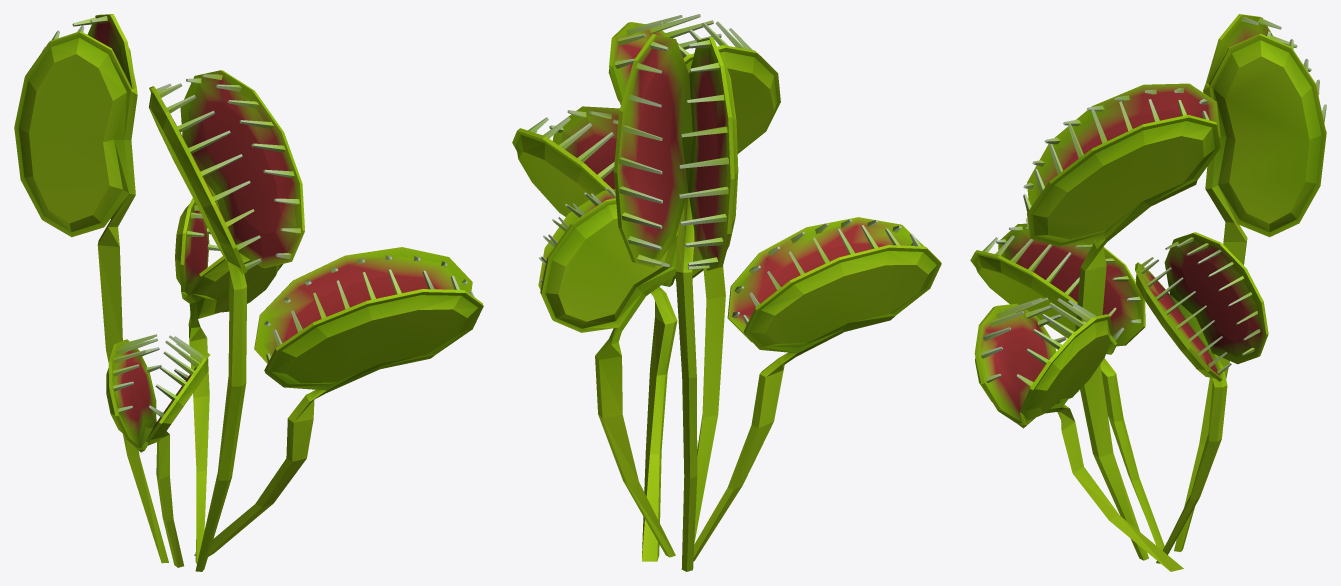
The model's file is trap-flytrap.glb.
3 views of the same model, side by side, from view 1: azimuth 30°, elevation 25°; view 2: azimuth 150°, elevation 25°; view 3: azimuth 270°, elevation 25° (orthographic). The views are drawn at different scales.
Visible parts, largest first — view 1: plant; view 2: plant; view 3: plant.
Boxes of the visible parts, bbox=[...] form: plant: bbox=[14, 14, 483, 571]; plant: bbox=[512, 14, 941, 571]; plant: bbox=[970, 14, 1326, 571].
Size of the model in its own units: 8.08 by 10.73 by 6.79.
